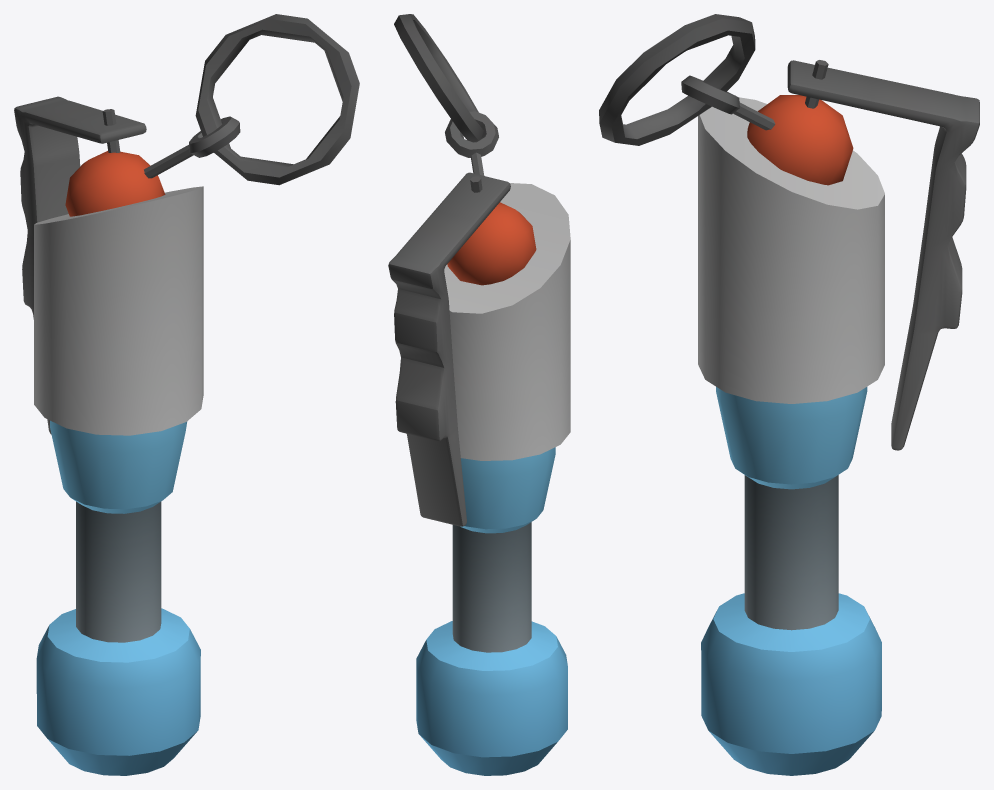
The model's file is Flashbanggrenade.fbx.
The picture shows the model from 3 angles, left to right: view 1: azimuth 30°, elevation 25°; view 2: azimuth 150°, elevation 25°; view 3: azimuth 270°, elevation 25°; orthographic projection. The views are drawn at different scales.
Visible parts, largest first — view 1: FlashBomb; view 2: FlashBomb; view 3: FlashBomb.
Part boxes in pixels (bbox=[...]): FlashBomb: bbox=[14, 14, 359, 775]; FlashBomb: bbox=[388, 14, 570, 775]; FlashBomb: bbox=[599, 14, 979, 775].
Size of the model in its own units: 0.0623 by 0.0789 by 0.1824.
